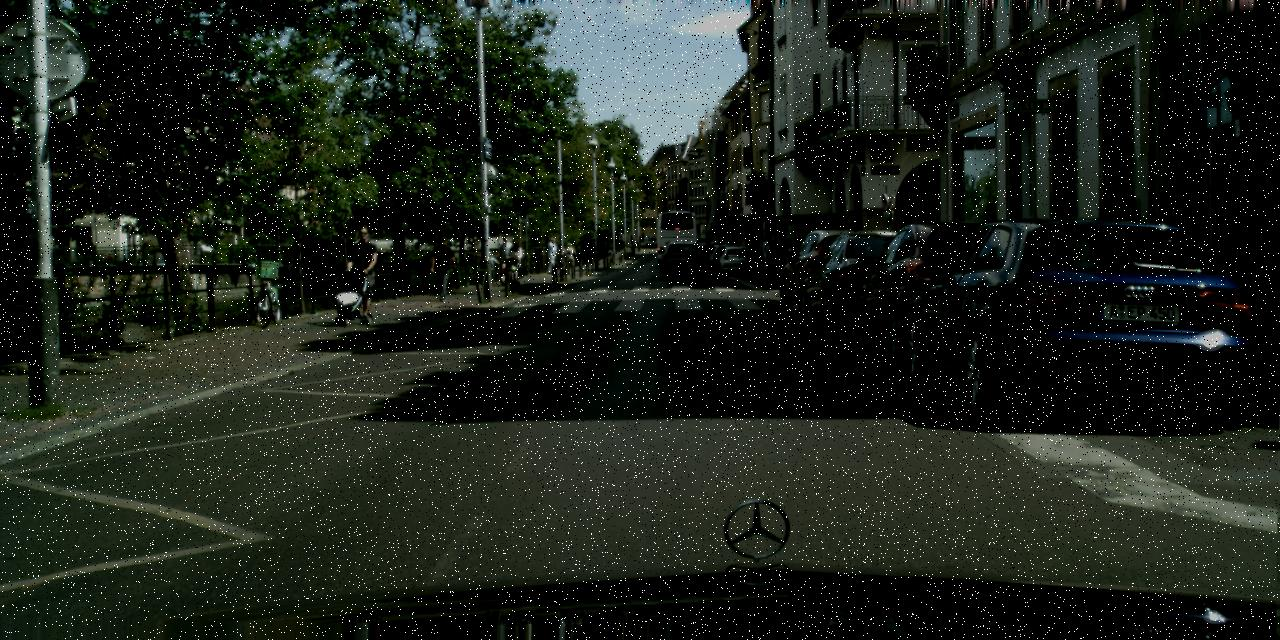ped: (346, 225, 385, 322), (428, 236, 456, 301), (496, 235, 514, 282), (506, 242, 523, 285), (544, 236, 558, 273), (563, 242, 576, 273), (761, 238, 773, 270)
